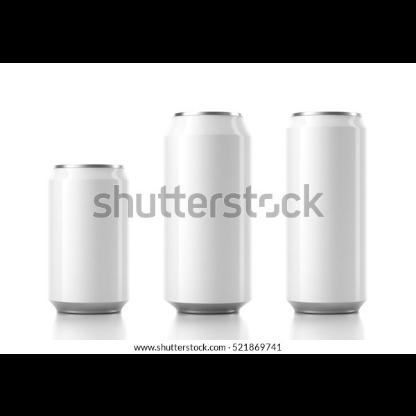Tin_Can: (160, 106, 256, 314), (280, 106, 370, 312), (46, 158, 134, 312)
